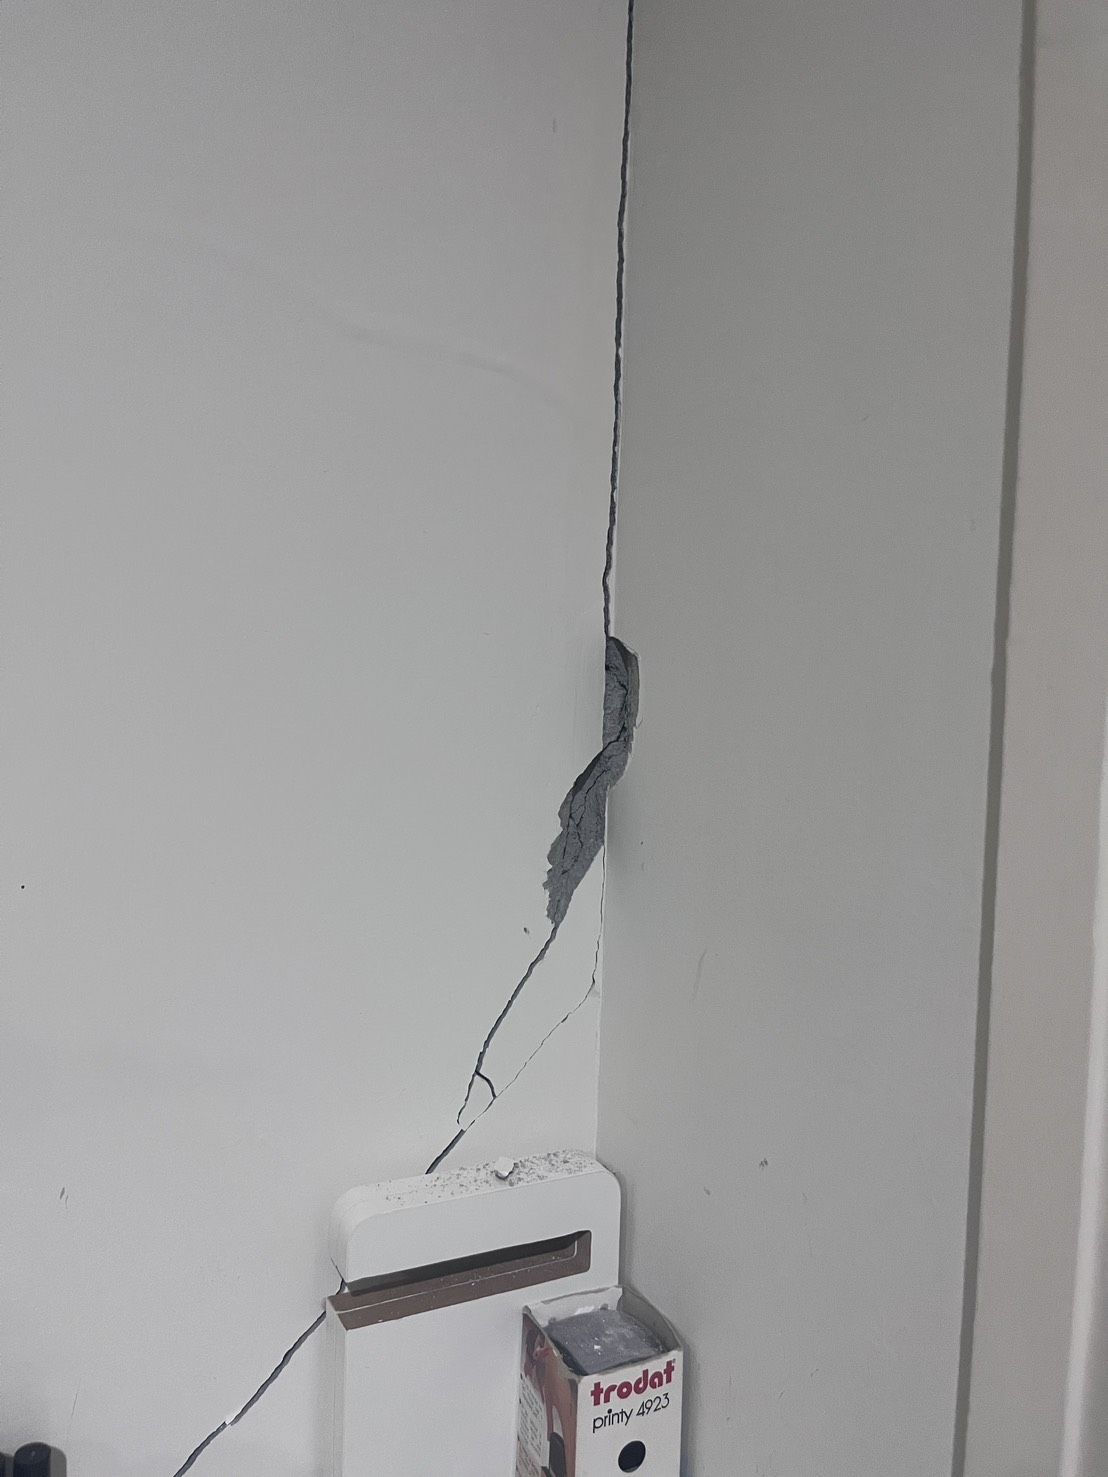Medium: (422, 79, 669, 1135)
